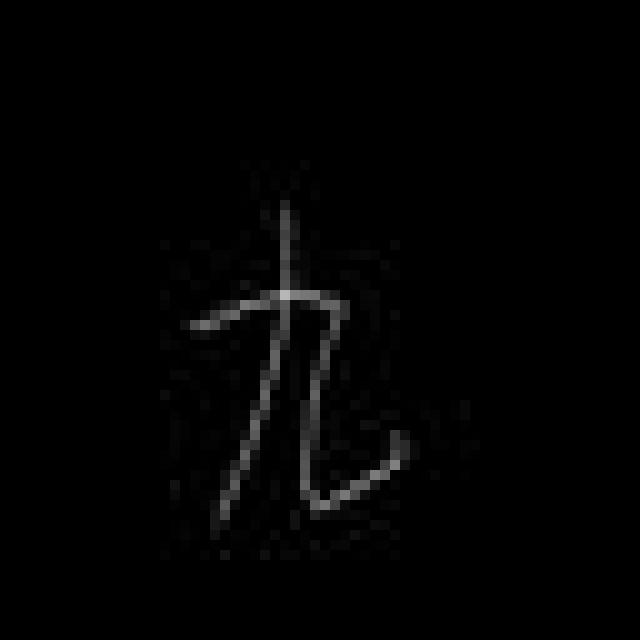9 -nine-: (182, 200, 407, 519)
